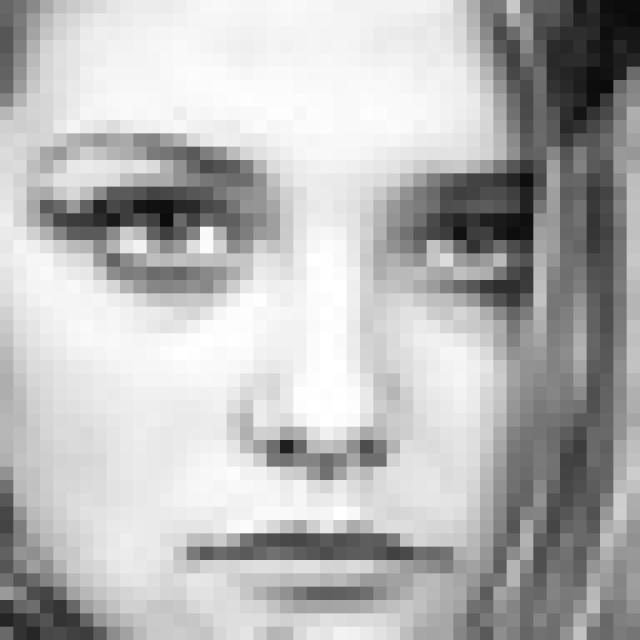neutral: (28, 118, 536, 614)
